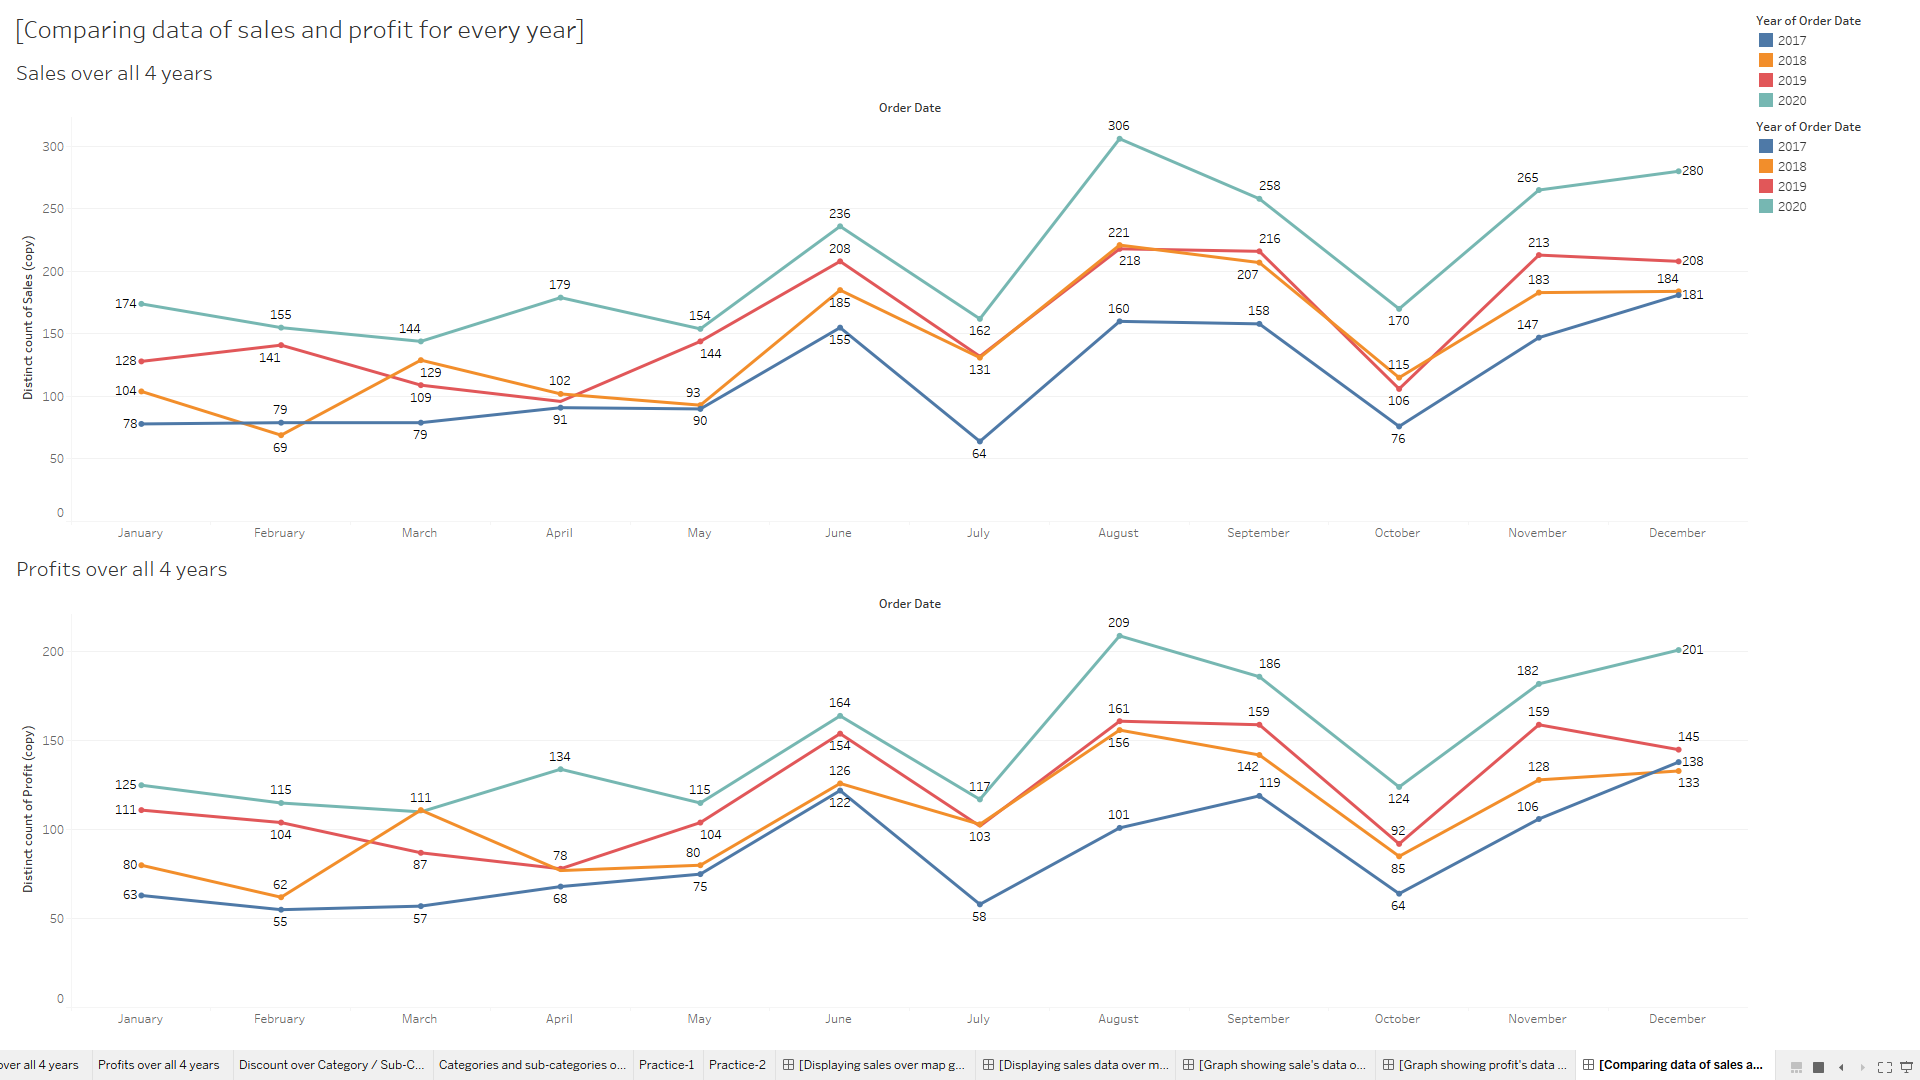

Layout of this report page (visuals, bound fields, positions):
{"tool":"tableau","page":{"name":"[Comparing data of sales and profit for every year]","canvas":[1000,1000],"units":"permille","ordinal":0},"visuals":[{"type":"title","box":[5,8.8,990,46.5]},{"type":"worksheet","title":"Sales over all 4 years","mark":"Automatic","rows":["Sales (copy)_855965427656978433"],"cols":["Order Date"],"box":[5,55.3,990,467.9]},{"type":"worksheet","title":"Profits over all 4 years","mark":"Automatic","rows":["Profit (copy)_855965427656007680"],"cols":["Order Date"],"box":[5,523.2,990,468]}]}

Visuals, with their boxes on the dashboard's canvas, which has no fixed pixel size, in thousandths of its width and height (x1, y1, x2, y2). These are canvas units, not pixel positions in the 1920x1080 screenshot, which may show the page scaled, cropped or inside an application window:
title: box=[5, 9, 995, 55]
"Sales over all 4 years" worksheet: box=[5, 55, 995, 523]
"Profits over all 4 years" worksheet: box=[5, 523, 995, 991]
